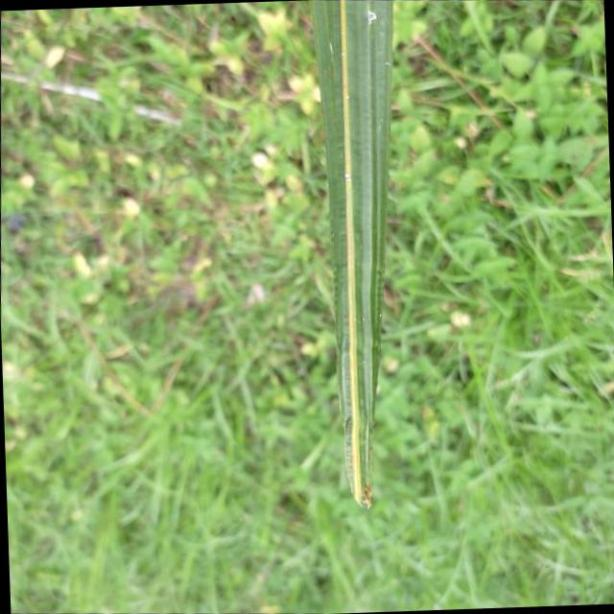Boron: (310, 0, 393, 514)
